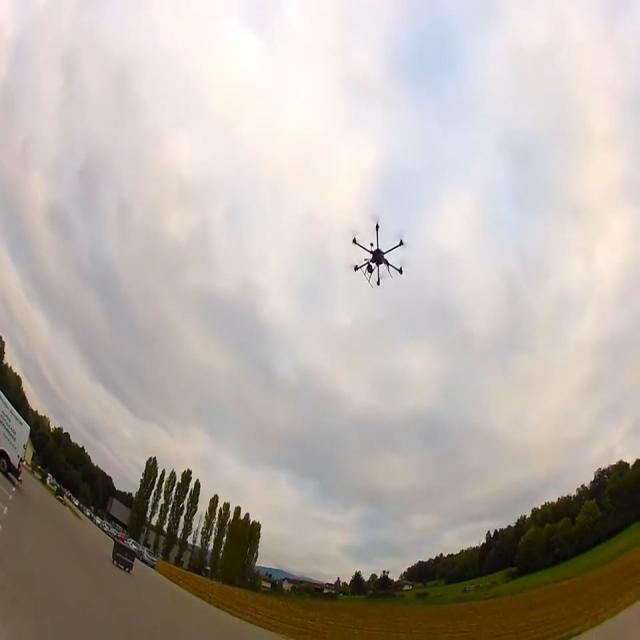drone: (351, 221, 404, 287)
